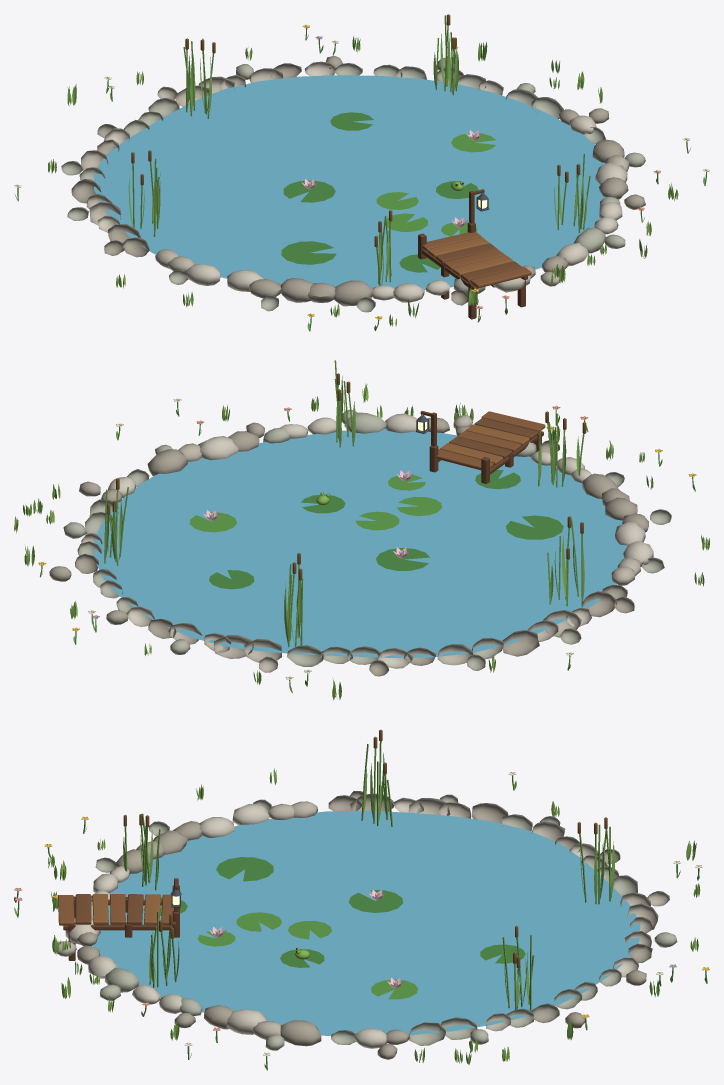
Rendered from pond.glb.
3 views of the same model, one above another, from view 1: azimuth 30°, elevation 25°; view 2: azimuth 150°, elevation 25°; view 3: azimuth 270°, elevation 25° (orthographic). The views are drawn at different scales.
Visible parts, largest first — view 1: Water, Pond; view 2: Water, Pond; view 3: Water, Pond.
Boxes of the visible parts, x1,y1,x2,y2 form: Water: (94,75,605,289); Pond: (14,14,709,331); Water: (94,428,627,657); Pond: (14,360,709,700); Water: (92,810,640,1036); Pond: (14,729,709,1070).
Bounding box in the file's own units: 11.51 × 2.21 × 11.7.
